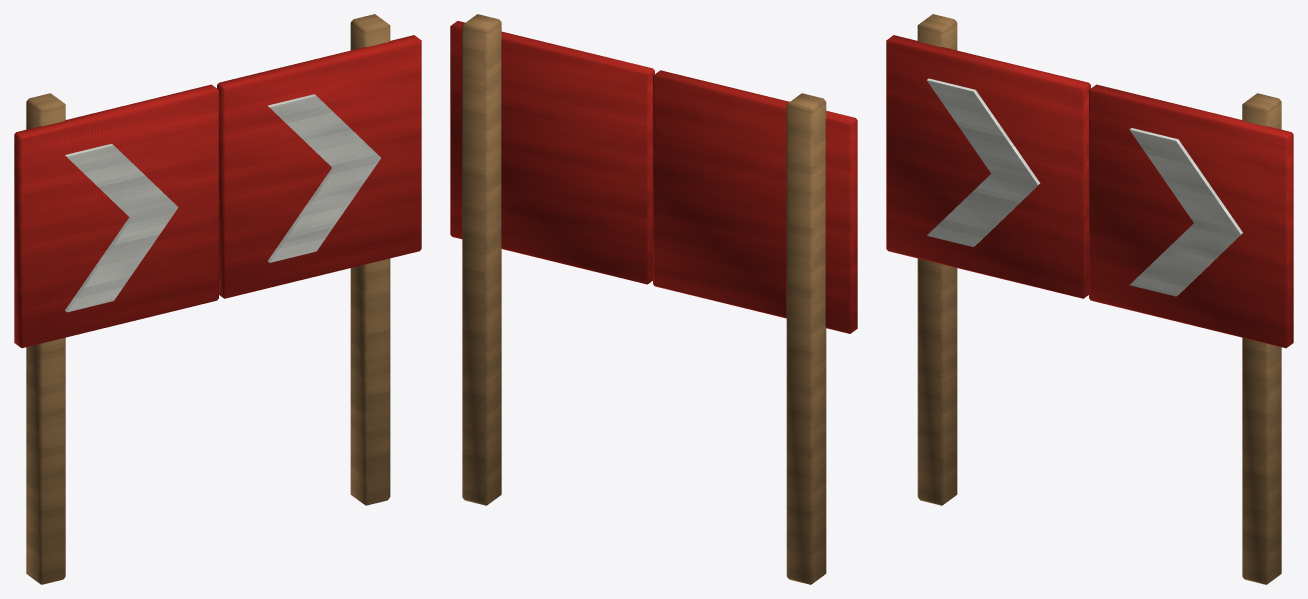
The model's file is placa_chevron_dir.glb.
The picture shows the model from 3 angles, left to right: view 1: azimuth 30°, elevation 25°; view 2: azimuth 150°, elevation 25°; view 3: azimuth 330°, elevation 25°; orthographic projection.
Visible parts, largest first — view 1: Inteiro, Peca_02, Peca_03; view 2: Inteiro, Peca_02, Peca_03; view 3: Inteiro, Peca_03, Peca_02.
Part boxes in pixels (bbox=[...]): Inteiro: bbox=[14, 14, 421, 584]; Peca_02: bbox=[14, 84, 218, 347]; Peca_03: bbox=[217, 35, 421, 298]; Inteiro: bbox=[450, 14, 857, 584]; Peca_02: bbox=[653, 70, 857, 333]; Peca_03: bbox=[450, 21, 654, 284]; Inteiro: bbox=[886, 14, 1293, 584]; Peca_03: bbox=[1089, 84, 1293, 348]; Peca_02: bbox=[886, 35, 1090, 298].
Size of the model in its own units: 1.19 by 1.35 by 0.122.
1 material, 1 textured.
